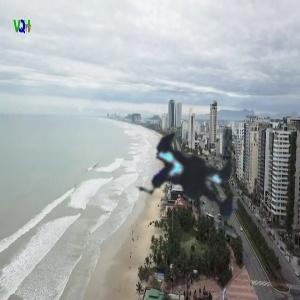drone: (94, 79, 294, 279)
